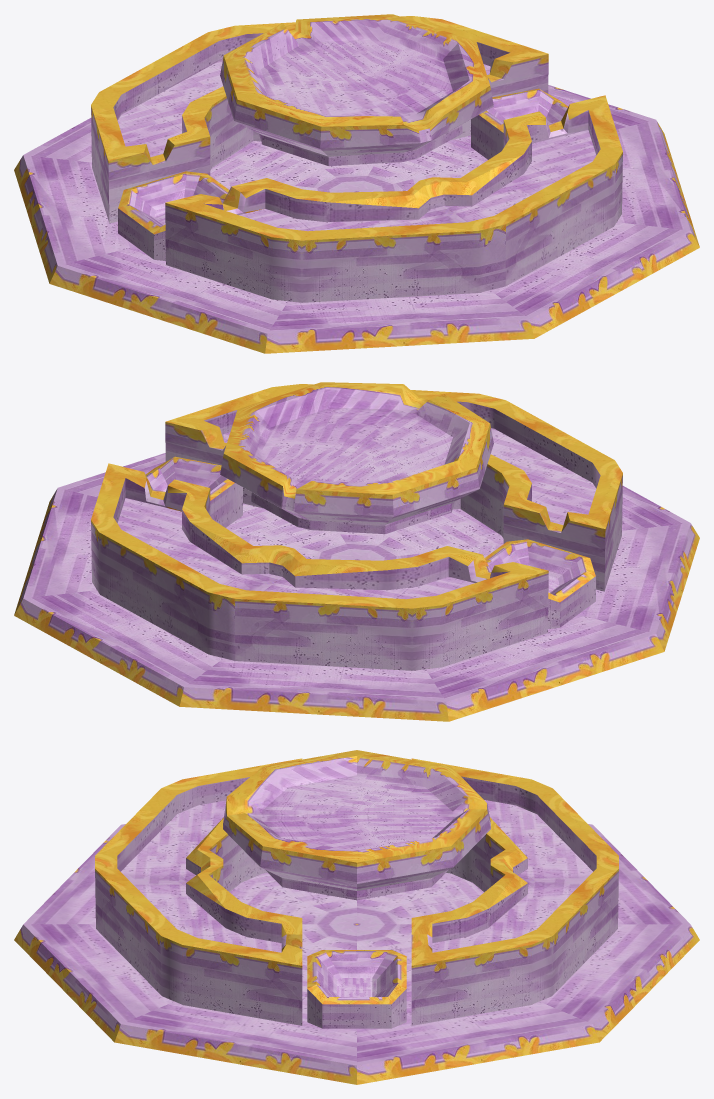
Rendered from entity82374n.gltf.
3 renders of one model, top to bottom at view 1: azimuth 30°, elevation 25°; view 2: azimuth 150°, elevation 25°; view 3: azimuth 270°, elevation 25°, orthographic. The views are drawn at different scales.
Parts seen in each view (by area): view 1: node_Str_Fountain_01; view 2: node_Str_Fountain_01; view 3: node_Str_Fountain_01.
Boxes of the visible parts, left/top/right/bottom form: node_Str_Fountain_01: left=14, top=14, right=699, bottom=353; node_Str_Fountain_01: left=14, top=382, right=699, bottom=721; node_Str_Fountain_01: left=14, top=750, right=699, bottom=1084.
Bounding box in the file's own units: 6.73 × 1.48 × 6.73.
